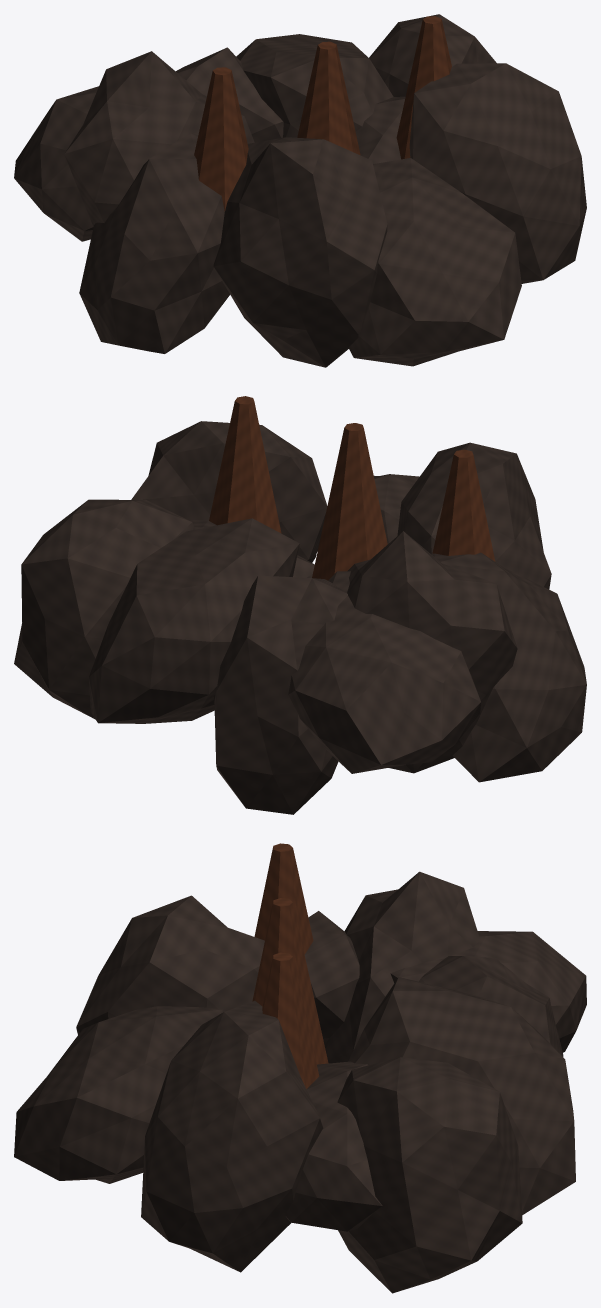
The model's file is underworld-resource-slagstone.glb.
The picture shows the model from 3 angles, top to bottom: view 1: azimuth 30°, elevation 25°; view 2: azimuth 150°, elevation 25°; view 3: azimuth 270°, elevation 25°; orthographic projection. The views are drawn at different scales.
Visible parts, largest first — view 1: rubble-7, rubble-5, rubble-2, rubble-4, rubble-9, rubble-3, rubble-1, inclusion-0, inclusion-1, rubble-8, rubble-6, inclusion-2 (+1 smaller); view 2: rubble-3, rubble-1, rubble-6, rubble-8, rubble-4, rubble-9, rubble-5, rubble-7, inclusion-1, inclusion-2, inclusion-0, rubble-2 (+1 smaller); view 3: rubble-5, rubble-8, rubble-3, rubble-2, rubble-7, rubble-9, rubble-0, rubble-1, rubble-6, rubble-4, inclusion-1, inclusion-2 (+1 smaller).
Part boxes in pixels (x1,y1,x2,y2): rubble-7: (213,137,387,367); rubble-5: (409,63,586,283); rubble-2: (348,158,521,366); rubble-4: (79,133,229,353); rubble-9: (64,51,254,226); rubble-3: (236,34,393,137); rubble-1: (14,86,206,241); inclusion-0: (194,67,248,211); inclusion-1: (297,41,360,155); rubble-8: (369,14,496,96); rubble-6: (176,47,283,142); inclusion-2: (396,16,451,159); rubble-3: (89,518,299,723); rubble-1: (288,571,480,773); rubble-6: (213,575,347,814); rubble-8: (14,499,194,719); rubble-4: (431,552,586,782); rubble-9: (347,531,517,773); rubble-5: (131,421,327,562); rubble-7: (397,442,551,589); inclusion-1: (312,423,387,580); inclusion-2: (209,396,281,533); inclusion-0: (432,449,495,561); rubble-2: (317,474,419,551); rubble-5: (141,1000,323,1272); rubble-8: (337,1057,522,1293); rubble-3: (348,977,575,1214); rubble-2: (14,1006,223,1183); rubble-7: (76,895,264,1034); rubble-9: (324,871,480,1063); rubble-0: (285,1061,382,1231); rubble-1: (390,931,586,1052); rubble-6: (419,956,563,1056); rubble-4: (304,911,359,1044); inclusion-1: (252,898,328,1064); inclusion-2: (262,952,319,1088).
Bounding box in the file's own units: 0.2199 × 0.1287 × 0.2218.
2 materials, 2 textured.
